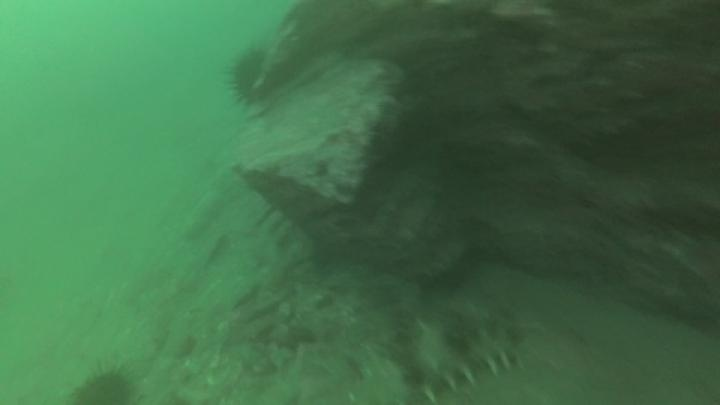echinus: (222, 42, 276, 111), (68, 362, 139, 405)
holothurian: (385, 314, 528, 401)
